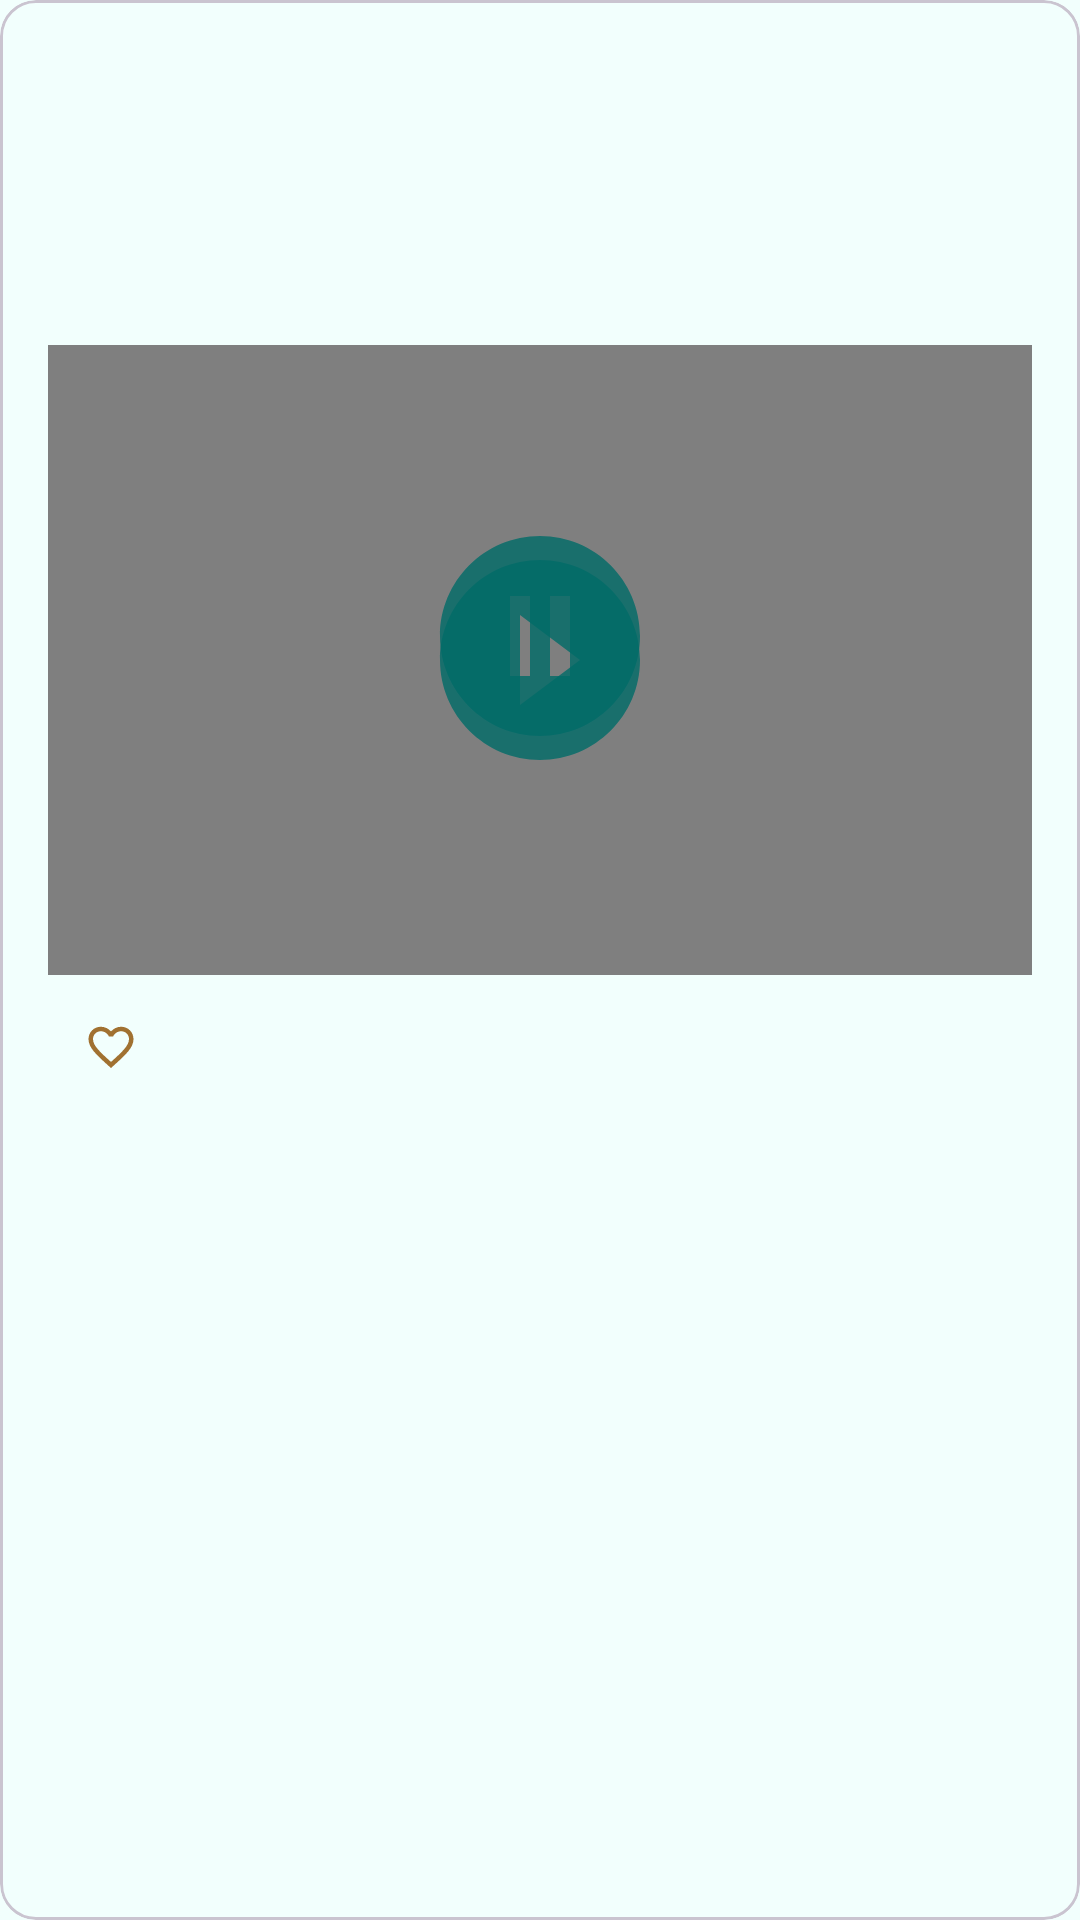

Icon bounding boxes for this 1080*1920 phone screenshot, format Rect(x1, y1, x2, y2):
Who liked the post: Rect(88, 1026, 134, 1068)
